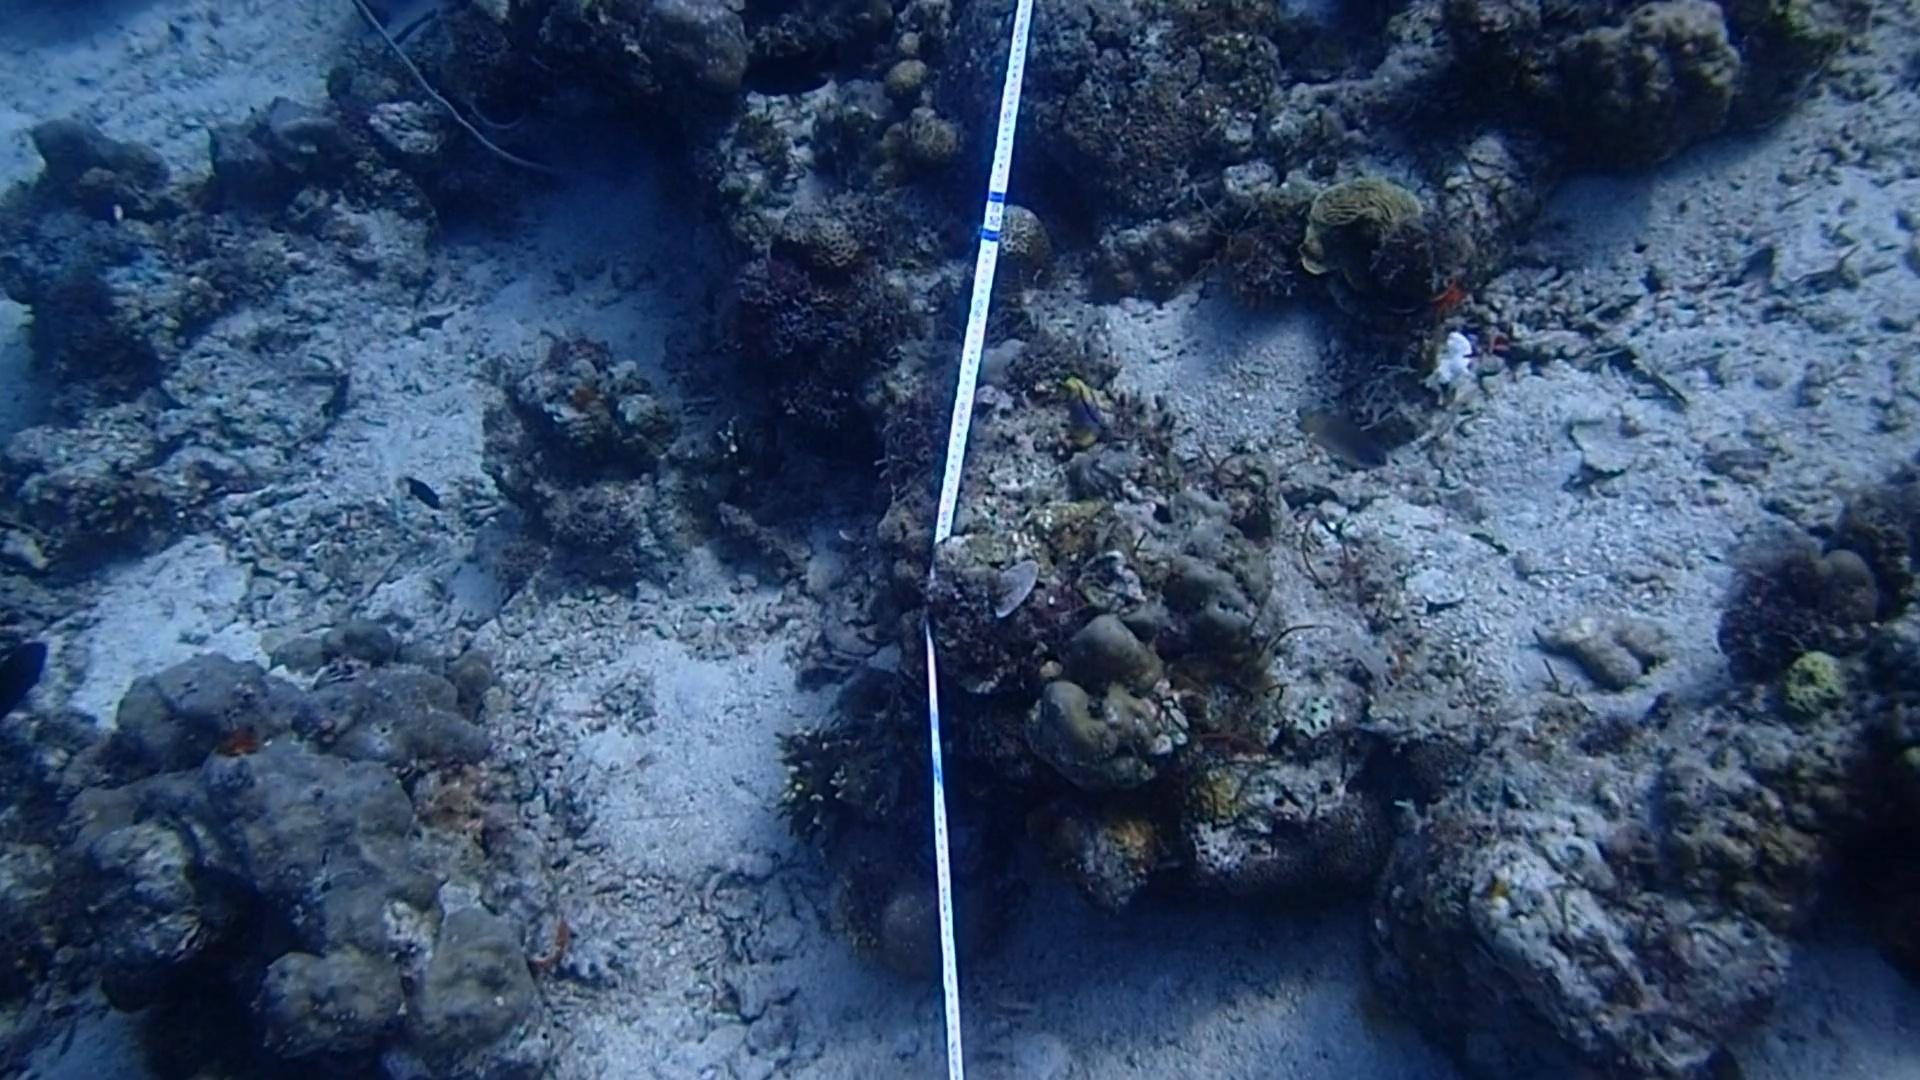Dark Fish: (742, 37, 841, 105), (0, 633, 58, 717), (398, 468, 454, 518)
Light Fish: (1296, 398, 1395, 477)
